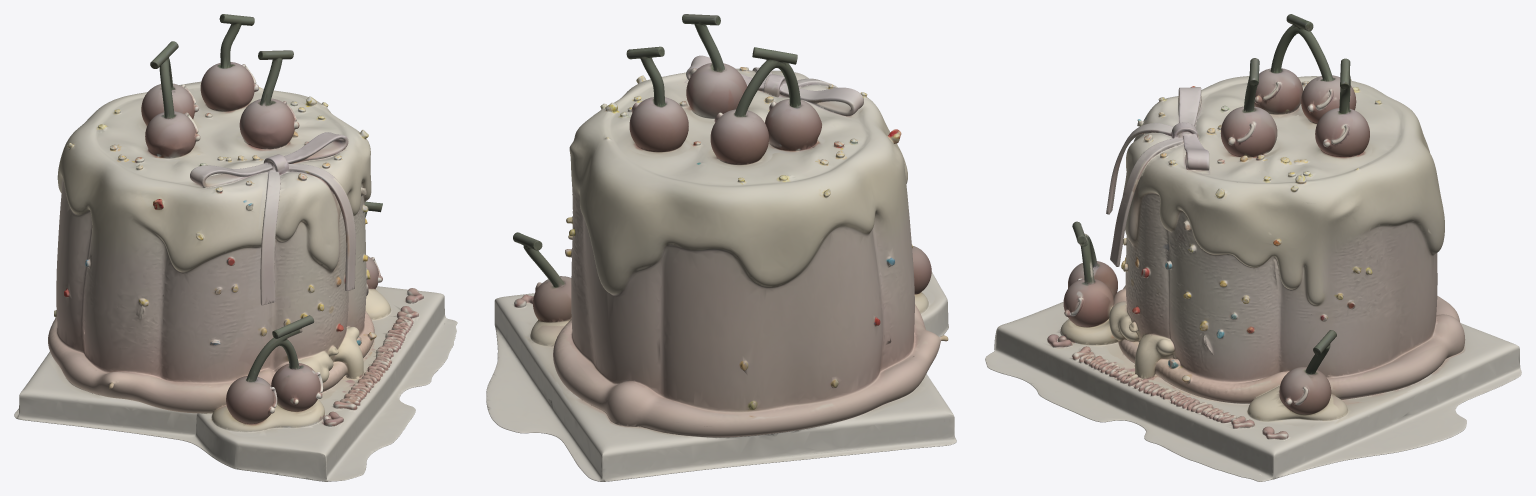
Rendered from banhsinhnhatcheery.optimized.glb.
3 renders of one model, left to right at view 1: azimuth 30°, elevation 25°; view 2: azimuth 150°, elevation 25°; view 3: azimuth 270°, elevation 25°, orthographic. The views are drawn at different scales.
Visible parts, largest first — view 1: node_0; view 2: node_0; view 3: node_0.
Part boxes in pixels (x1,y1,x2,y2): node_0: [14, 14, 457, 481]; node_0: [486, 14, 956, 481]; node_0: [985, 14, 1521, 481].
Size of the model in its own units: 0.9269 by 0.6745 by 0.988.
Materials: 1 (1 with a texture image).
